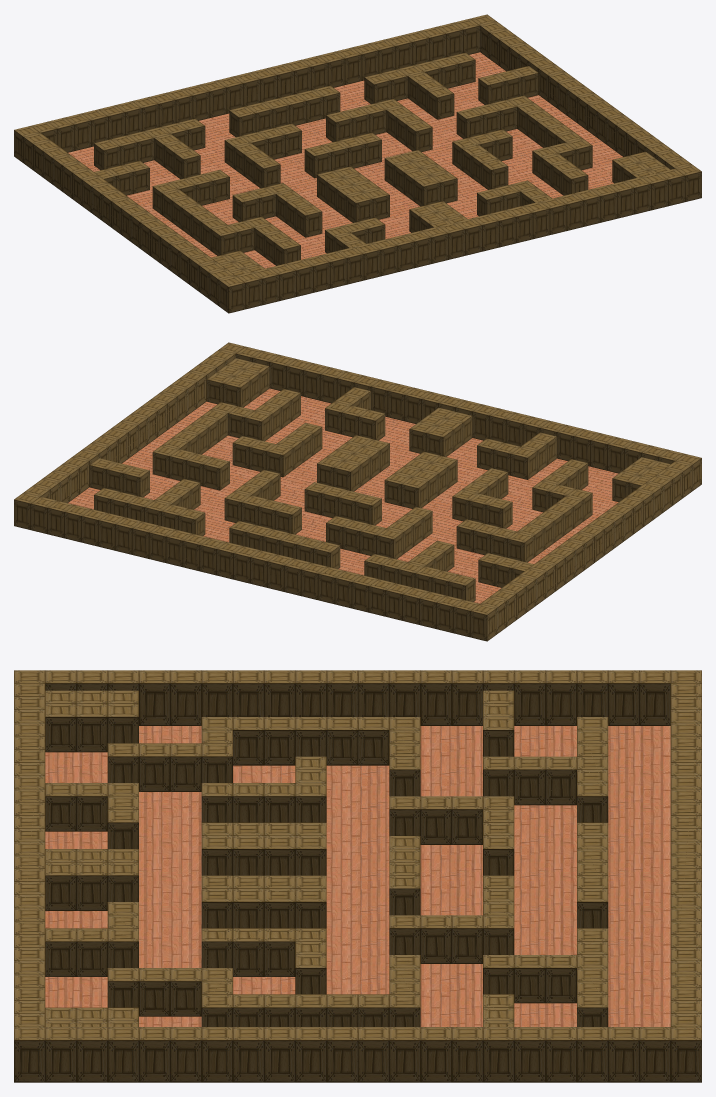
File: maze_1player.glb
3 renders of one model, top to bottom at view 1: azimuth 30°, elevation 25°; view 2: azimuth 150°, elevation 25°; view 3: azimuth 270°, elevation 25°, orthographic. The views are drawn at different scales.
Parts seen in each view (by area): view 1: maze_floor, o4, o2, o3, o5, o18, o7, o13, o23, o27, o19, o24 (+14 smaller); view 2: maze_floor, o2, o4, o3, o5, o13, o18, o23, o7, o24, o27, o12 (+14 smaller); view 3: maze_floor, o5, o3, o18, o13, o2, o4, o23, o7, o24, o27, o14 (+14 smaller).
Part boxes in pixels (x1=…): maze_floor: x1=68, y1=52, x2=622, y2=268; o4: x1=236, y1=168, x2=684, y2=309; o2: x1=31, y1=18, x2=479, y2=152; o3: x1=14, y1=126, x2=245, y2=313; o5: x1=470, y1=14, x2=701, y2=201; o18: x1=162, y1=189, x2=300, y2=265; o7: x1=364, y1=52, x2=475, y2=119; o13: x1=517, y1=102, x2=592, y2=195; o23: x1=94, y1=118, x2=205, y2=179; o27: x1=326, y1=99, x2=432, y2=151; o19: x1=229, y1=85, x2=340, y2=137; o24: x1=224, y1=123, x2=301, y2=188; maze_floor: x1=68, y1=388, x2=618, y2=603; o2: x1=31, y1=496, x2=479, y2=637; o4: x1=236, y1=346, x2=684, y2=473; o3: x1=470, y1=454, x2=701, y2=641; o5: x1=14, y1=342, x2=245, y2=529; o13: x1=162, y1=389, x2=300, y2=454; o18: x1=517, y1=459, x2=592, y2=557; o23: x1=364, y1=540, x2=475, y2=601; o7: x1=94, y1=479, x2=205, y2=535; o24: x1=326, y1=507, x2=432, y2=559; o27: x1=224, y1=470, x2=301, y2=534; o12: x1=232, y1=422, x2=322, y2=477; maze_floor: x1=45, y1=726, x2=670, y2=1026; o5: x1=14, y1=1027, x2=701, y2=1082; o3: x1=14, y1=670, x2=701, y2=725; o18: x1=107, y1=717, x2=389, y2=791; o13: x1=107, y1=968, x2=389, y2=1026; o2: x1=670, y1=683, x2=701, y2=1026; o4: x1=14, y1=683, x2=45, y2=1026; o23: x1=483, y1=717, x2=608, y2=822; o7: x1=483, y1=928, x2=608, y2=1026; o24: x1=389, y1=796, x2=514, y2=875; o27: x1=389, y1=875, x2=514, y2=963; o14: x1=201, y1=822, x2=326, y2=875.
Size of what is drawn, in the model's own units: 56 by 3 by 44.
Materials: 2 (2 with a texture image).
